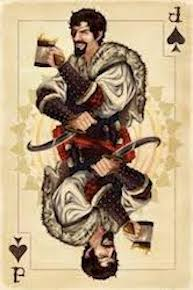JackOfSpades: (1, 1, 192, 288)
